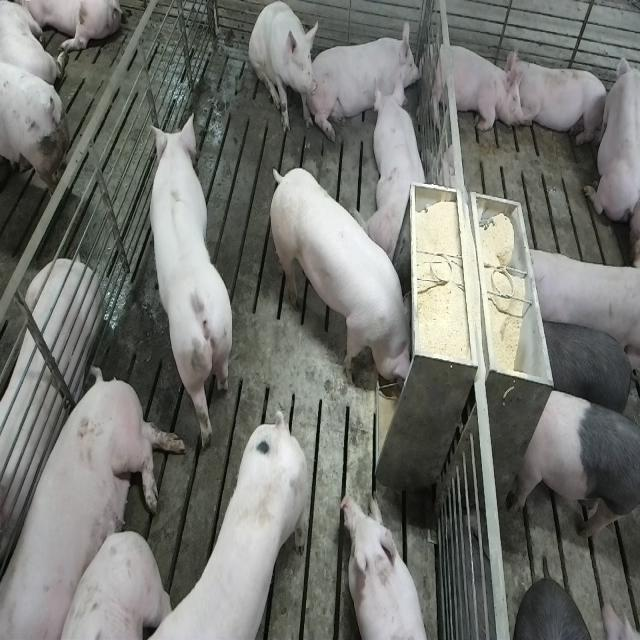Feeding: (273, 166, 421, 396)
Lateral_lying: (3, 367, 186, 640), (0, 257, 102, 589)
Sitting: (249, 2, 319, 137)
Standing: (137, 413, 318, 640), (147, 109, 234, 455), (514, 384, 638, 543), (523, 245, 638, 359), (534, 317, 638, 419)
Sternal_lying: (343, 491, 433, 640), (314, 22, 425, 132), (368, 79, 430, 264), (509, 51, 610, 149), (584, 42, 637, 228), (426, 36, 520, 134)
